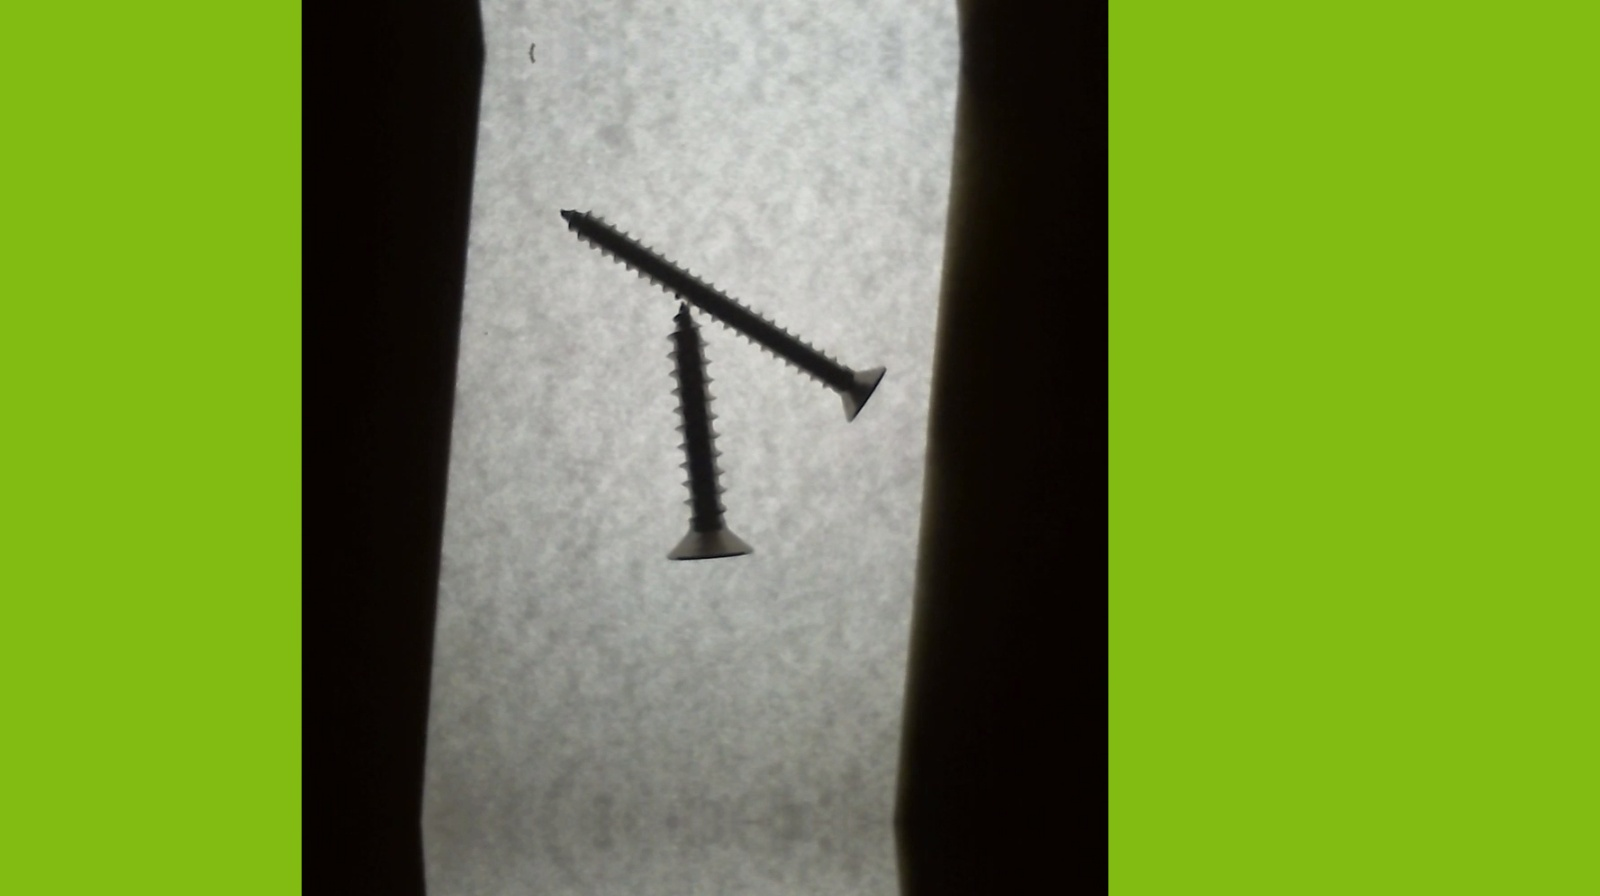S001: (654, 305, 754, 569)
S002: (552, 200, 887, 425)
